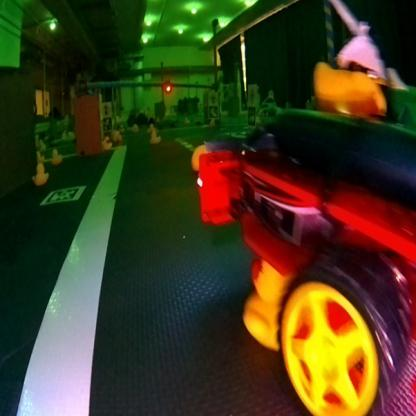duckie: (30, 160, 50, 185), (48, 146, 65, 165), (100, 134, 115, 152)
duckiebot: (190, 104, 415, 415)
